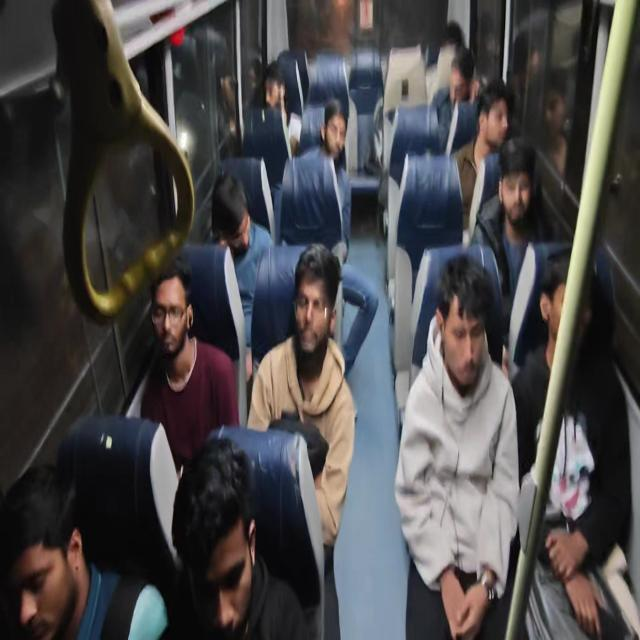person: (434, 246, 499, 399), (536, 242, 594, 372), (134, 254, 195, 368), (291, 240, 344, 352), (493, 131, 541, 233), (206, 165, 255, 259), (318, 92, 348, 166), (251, 59, 284, 123), (475, 82, 506, 150), (443, 48, 474, 104), (441, 18, 466, 52)
